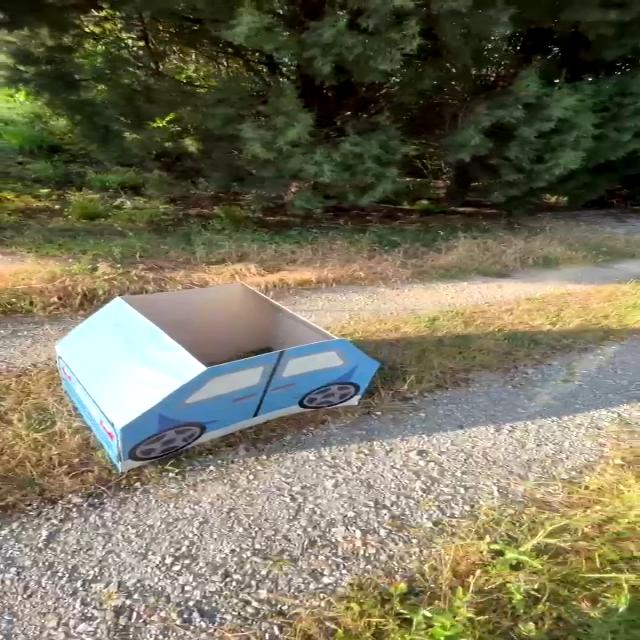blue_car: (0, 277, 421, 489)
